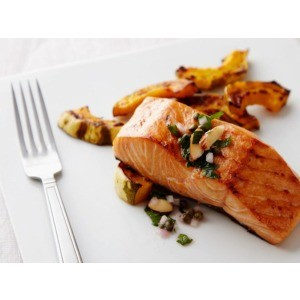salmon_brain food: (120, 104, 284, 215)
